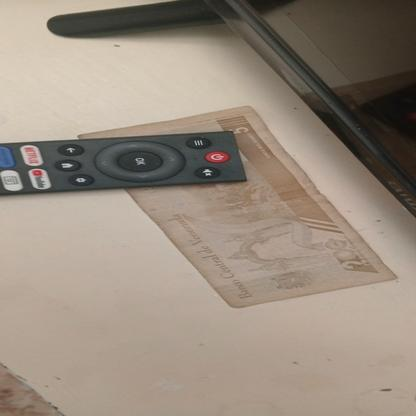five-back-vef: (76, 105, 397, 308)
